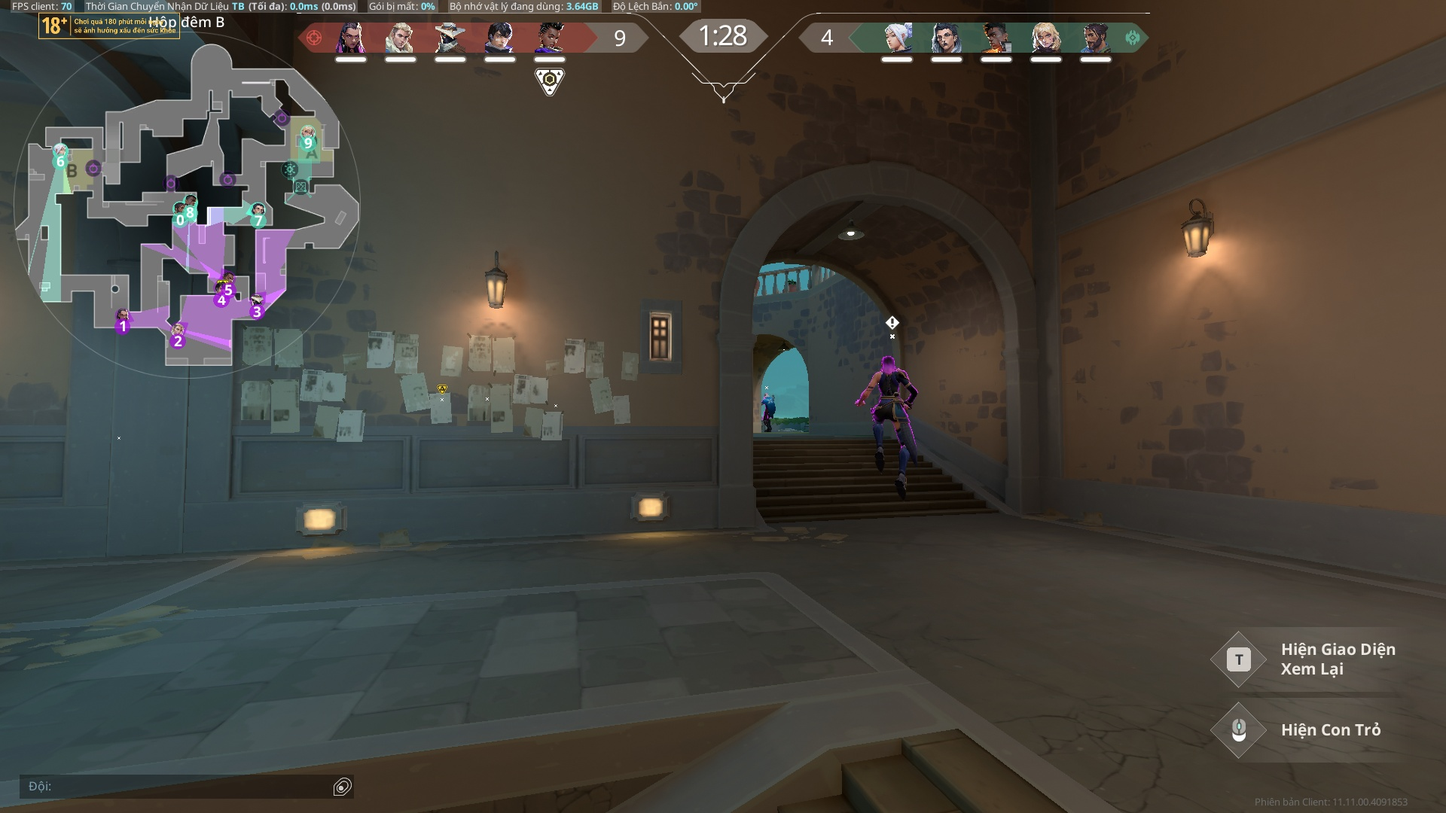body: (877, 368, 908, 400), (763, 397, 776, 410)
head: (881, 354, 893, 369), (764, 391, 771, 399)
